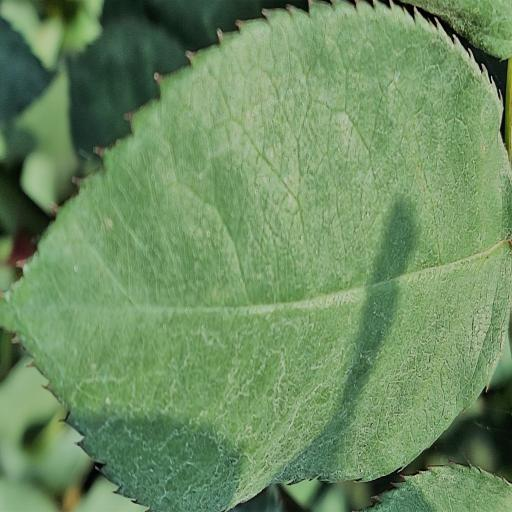healthy_leaf: (0, 1, 512, 512)
